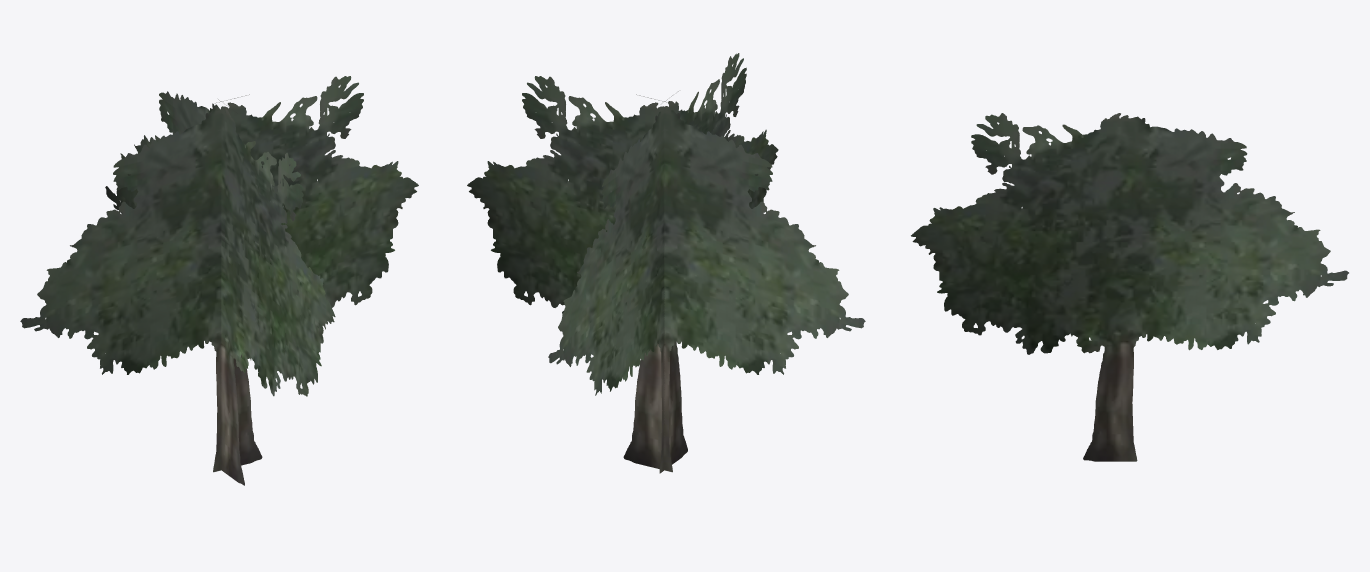
Rendered from arvore_figueira_impostor.glb.
3 renders of one model, left to right at view 1: azimuth 30°, elevation 25°; view 2: azimuth 150°, elevation 25°; view 3: azimuth 270°, elevation 25°, orthographic. The views are drawn at different scales.
Visible parts, largest first — view 1: arvore_figueira_impostor; view 2: arvore_figueira_impostor; view 3: arvore_figueira_impostor.
Part boxes in pixels (<box>): arvore_figueira_impostor: <box>20,76,418,485</box>; arvore_figueira_impostor: <box>467,53,865,473</box>; arvore_figueira_impostor: <box>911,113,1348,461</box>.
Bounding box in the file's own units: 10.24 × 8.71 × 10.24.
Materials: 1 (1 with a texture image).
